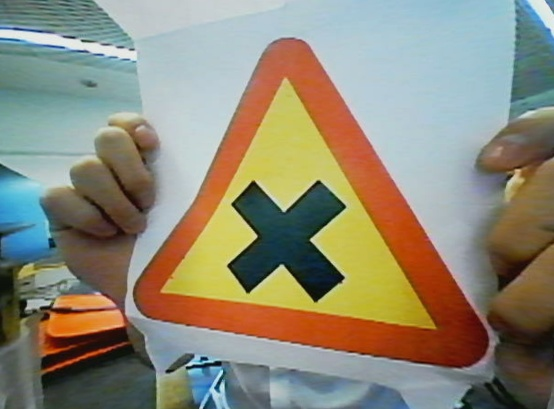junction: (124, 36, 510, 409)
